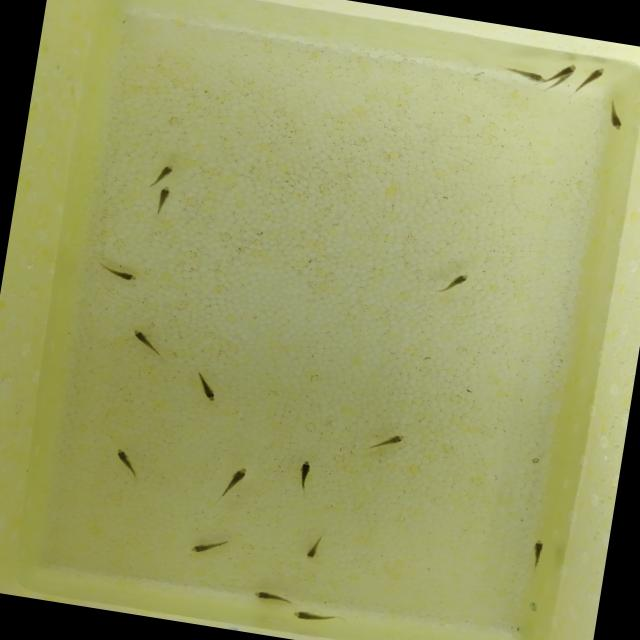fingerling: (208, 460, 256, 512), (184, 530, 238, 562), (430, 266, 476, 302), (128, 327, 172, 362), (187, 366, 225, 406), (109, 446, 148, 483), (364, 426, 412, 456), (290, 455, 319, 500), (576, 62, 610, 100), (288, 608, 350, 628), (248, 586, 304, 608), (92, 260, 142, 284), (501, 64, 547, 88), (302, 529, 328, 564), (151, 184, 175, 219), (604, 98, 628, 132), (526, 536, 548, 572), (550, 59, 578, 85), (154, 158, 178, 185)
